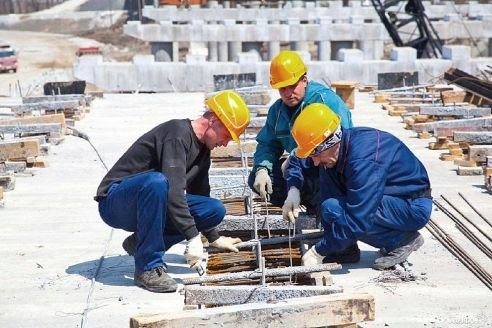yellow: (290, 103, 346, 170), (198, 90, 251, 150), (265, 49, 311, 105)
